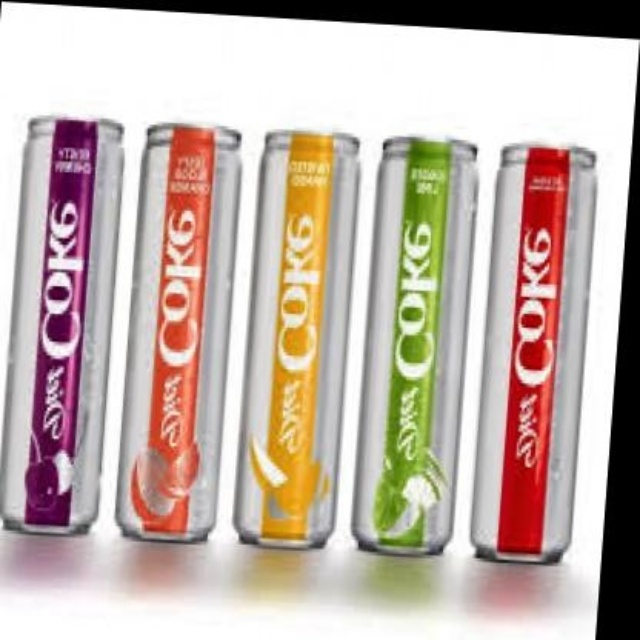trash: (471, 145, 595, 562), (352, 137, 475, 554), (117, 123, 240, 540), (234, 131, 357, 546), (0, 117, 122, 532), (218, 126, 263, 531), (102, 122, 145, 523), (338, 138, 378, 534)
